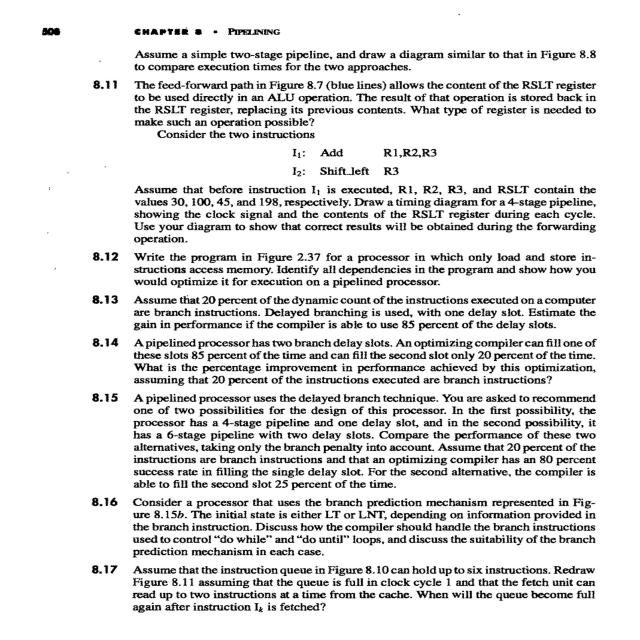diagram: (0, 0, 18, 375)
